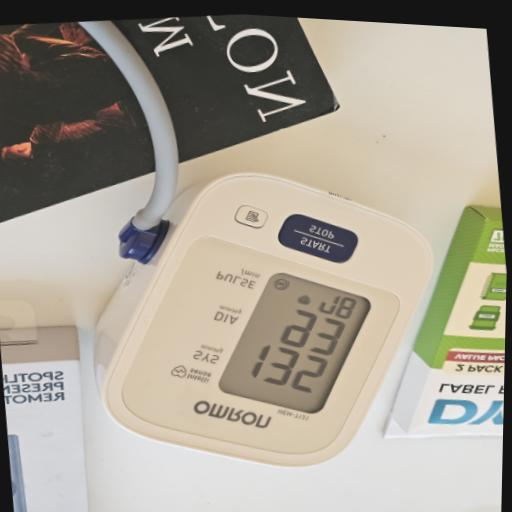blood pressure monitor: (61, 141, 458, 502)
